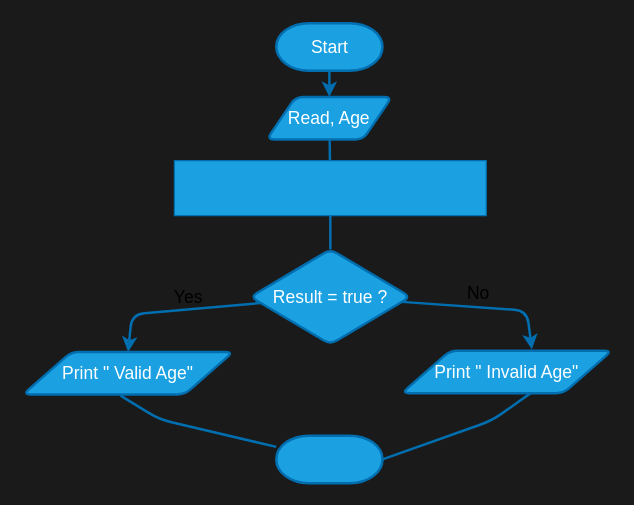
The diagram is 634 pixels wide and 505 high, and some of its shapes have lost their labels. Each missing label, with the centre of its shape:
"End" belongs at point (328, 459).
"Result = ( Age <= 45 and Age > = 18)" belongs at point (329, 187).
